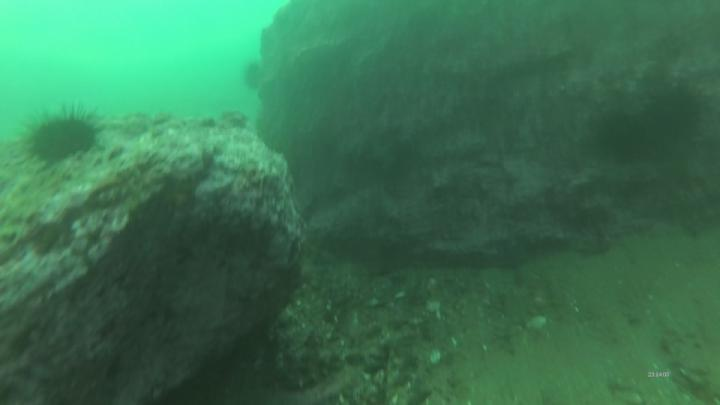echinus: (30, 114, 101, 165), (242, 58, 266, 96)
holothurian: (280, 350, 345, 390)
